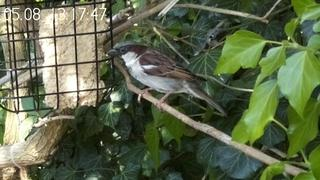sparrow: (106, 40, 227, 115)
